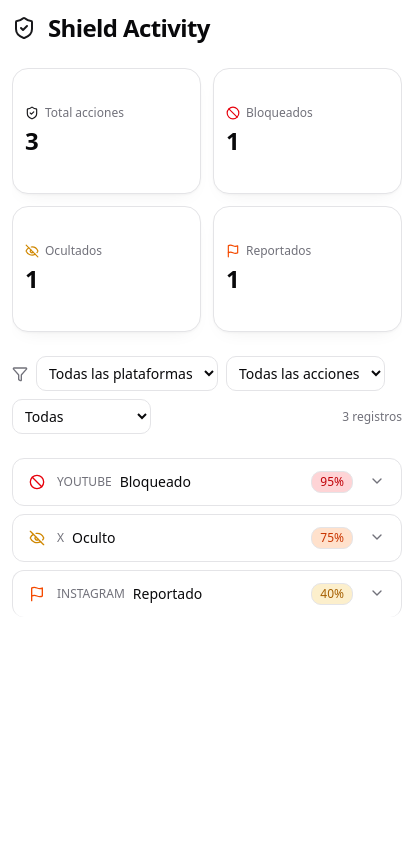
Test: ShieldPage › expands an accordion item on mobile to reveal full log details
This screenshot has width=414, height=856.
Expected: the text "youtube" is shown, [57,474,112,490]
Click the button "youtube Bloqueado 95%" at (84, 482), box [29,459,385,505]
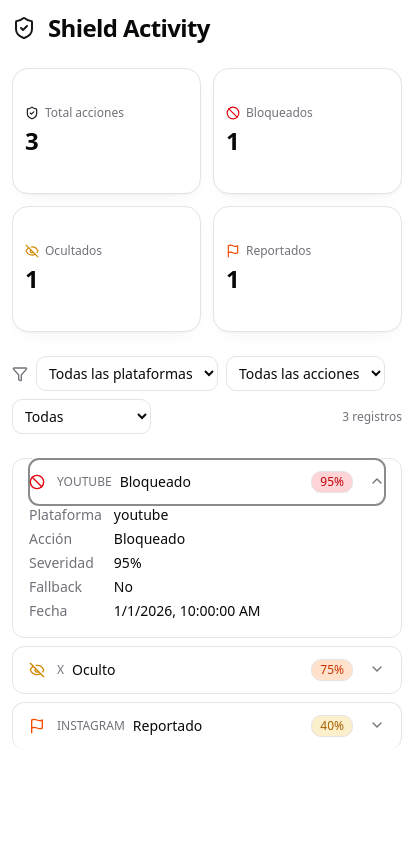
Result: the text "Fallback" is shown at [29,577,82,596]
